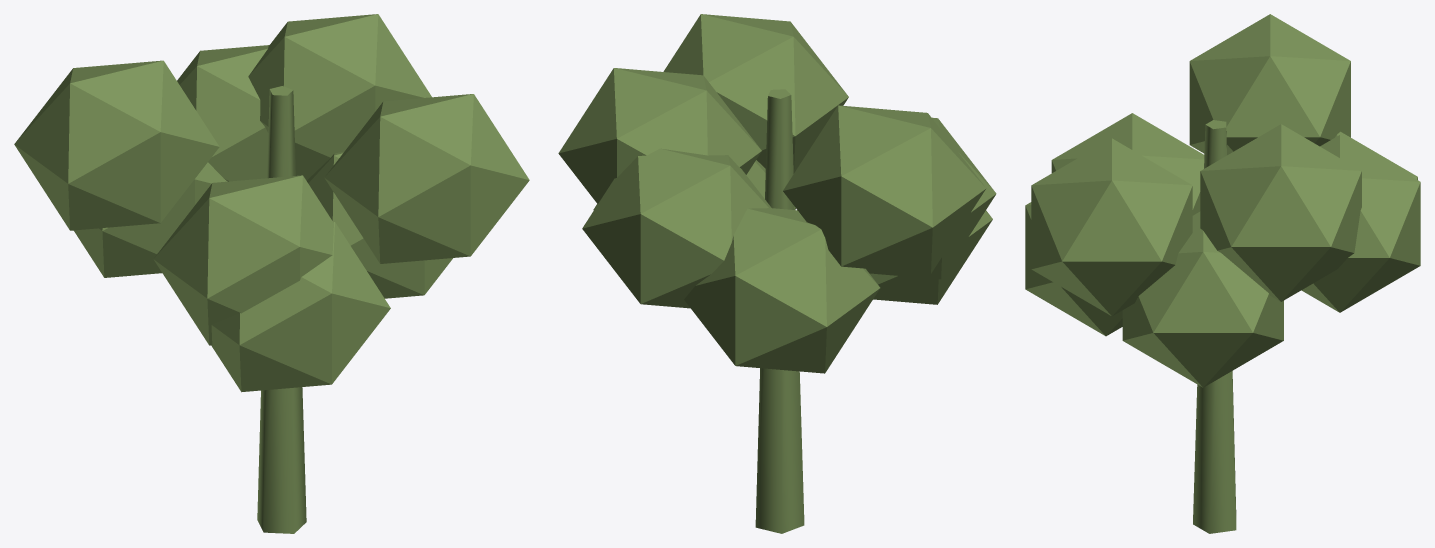
The picture shows the model from 3 angles, left to right: view 1: azimuth 30°, elevation 25°; view 2: azimuth 150°, elevation 25°; view 3: azimuth 270°, elevation 25°; orthographic projection. The views are drawn at different scales.
Parts seen in each view (by area): view 1: shadow-crown; view 2: shadow-crown; view 3: shadow-crown.
Part boxes in pixels (bbox=[...]): shadow-crown: bbox=[14, 14, 529, 533]; shadow-crown: bbox=[558, 14, 996, 533]; shadow-crown: bbox=[1025, 14, 1420, 533].
Bounding box in the file's own units: 7.05 × 8.25 × 6.9.
